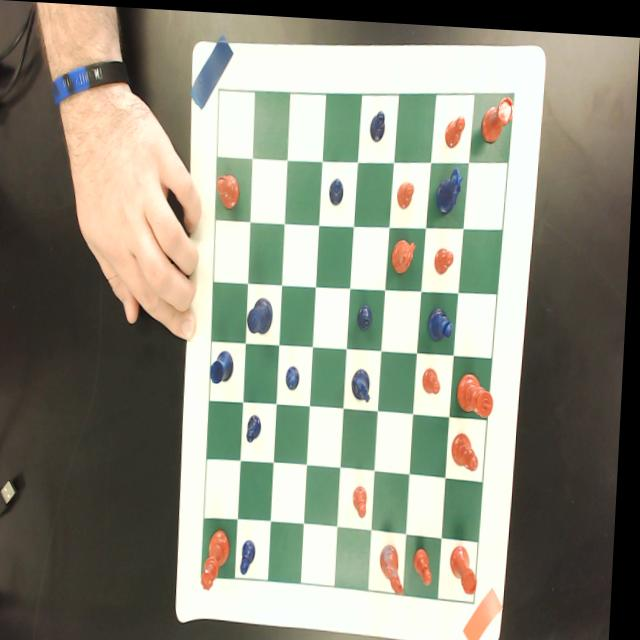B: (431, 301, 457, 338)
K: (250, 293, 278, 332)
N: (434, 160, 466, 219), (354, 360, 378, 399)
P: (246, 537, 262, 573), (371, 106, 388, 139), (359, 299, 377, 328), (251, 411, 266, 441), (330, 173, 346, 201), (289, 361, 304, 388)
R: (213, 345, 239, 381)
b: (455, 427, 484, 466), (217, 170, 242, 206)
k: (459, 367, 499, 412)
n: (383, 538, 413, 594), (393, 233, 419, 270)
p: (418, 540, 440, 581), (446, 109, 467, 144), (436, 240, 457, 271), (356, 480, 374, 515), (398, 175, 417, 206), (425, 362, 445, 390)
q: (206, 525, 237, 590)
r: (481, 87, 517, 139), (455, 536, 485, 590)
